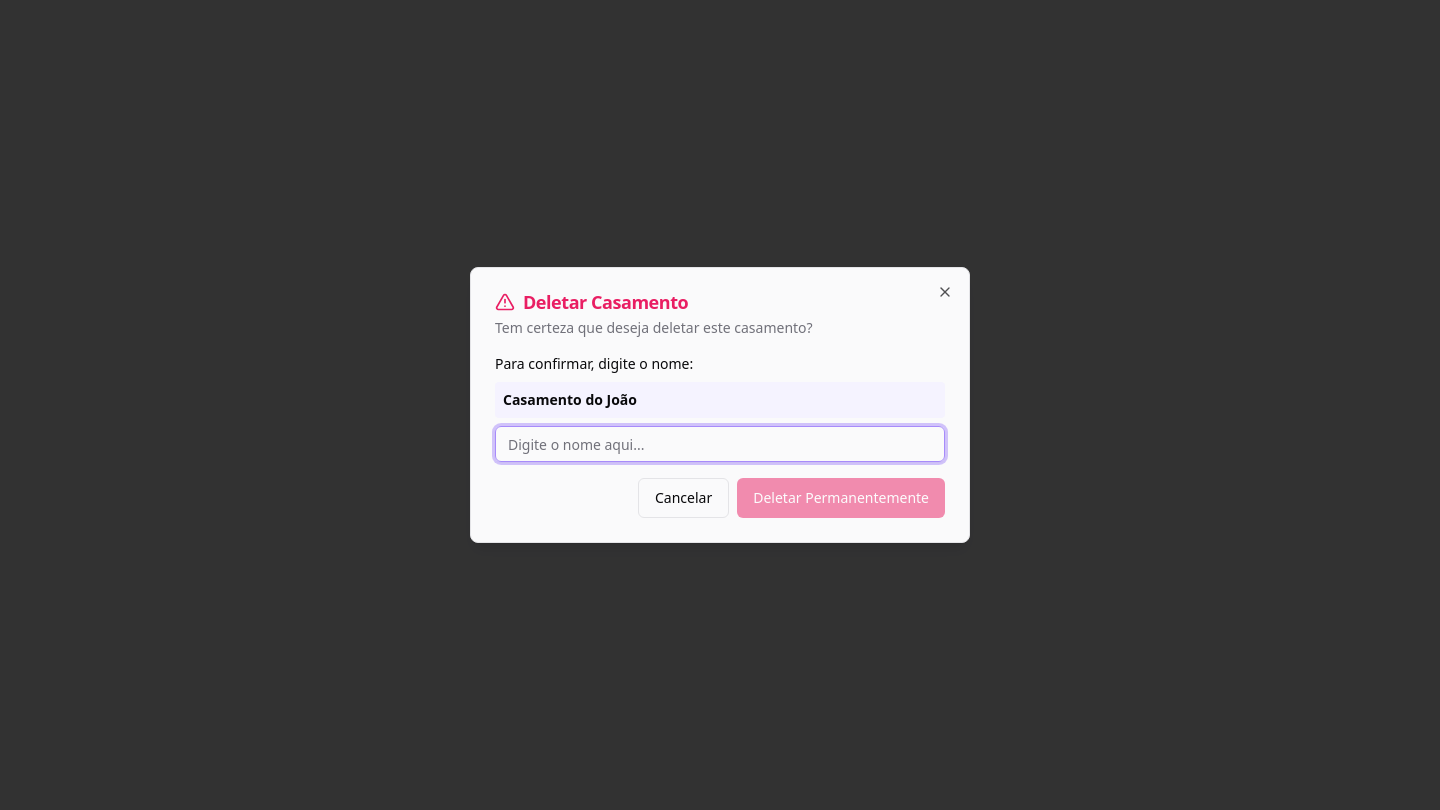
Test: ConfirmDeleteDialog › confirm button enabled when typed text matches itemName
The width and height of the screenshot is (1440, 810).
Expected: the button "Deletar Permanentemente" is disabled, [737, 478, 945, 518]
Type "Casamento do João" into the field with placeholder "Digite o nome aqui..." at (720, 444), box [495, 426, 945, 462]
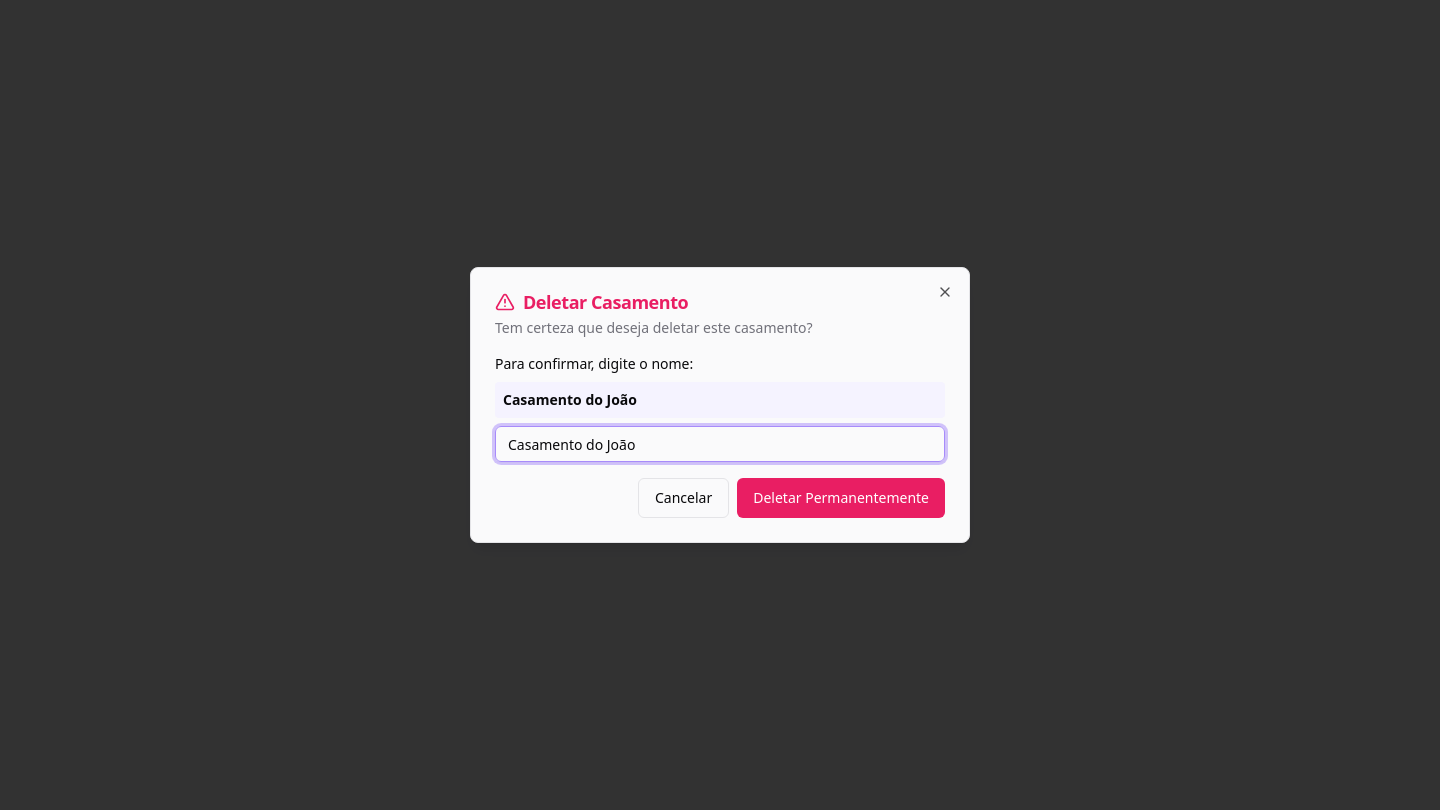
Now the button "Deletar Permanentemente" is enabled, box [737, 478, 945, 518]
